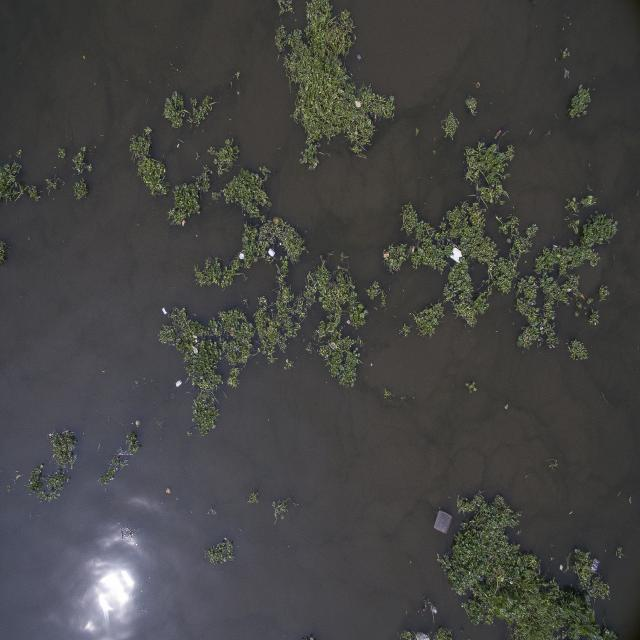debris: (434, 508, 453, 536), (424, 601, 441, 616), (450, 248, 464, 264), (191, 341, 199, 355), (354, 99, 364, 109), (503, 399, 511, 411), (382, 248, 390, 260), (160, 306, 169, 316), (174, 378, 183, 388), (180, 218, 188, 229), (477, 574, 485, 583), (268, 249, 276, 257), (496, 128, 504, 136), (505, 236, 512, 245), (239, 252, 246, 260), (135, 418, 142, 426), (165, 486, 172, 494), (233, 342, 239, 351), (508, 578, 515, 585), (530, 300, 538, 306), (277, 240, 283, 247), (411, 246, 416, 253), (594, 320, 598, 328)
plastic: (562, 66, 571, 80), (592, 558, 600, 572), (458, 624, 466, 636), (355, 52, 363, 62), (558, 564, 566, 572), (176, 140, 181, 150), (235, 88, 241, 96), (551, 242, 559, 248), (565, 287, 573, 292), (538, 324, 544, 330), (481, 146, 486, 151)
